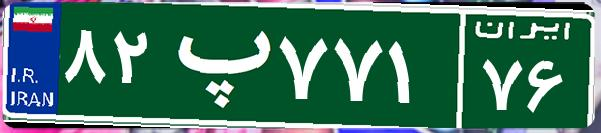1: (385, 28, 445, 110)
2: (110, 28, 158, 105)
6: (525, 38, 570, 115)
7: (273, 28, 330, 110), (330, 28, 385, 110), (475, 38, 525, 113)
8: (57, 26, 110, 107)
پ: (158, 15, 273, 115)
